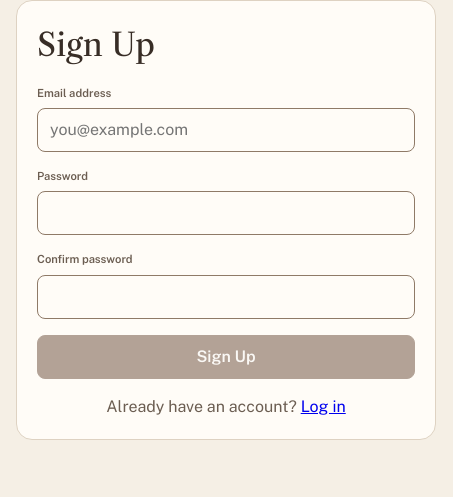
Test: SignupScreen › shows an error message when signup fails (e.g. email already registered)
In the field labelled "Email address": (226, 130) 37,108 -> 415,152, type "buyer@example.com"
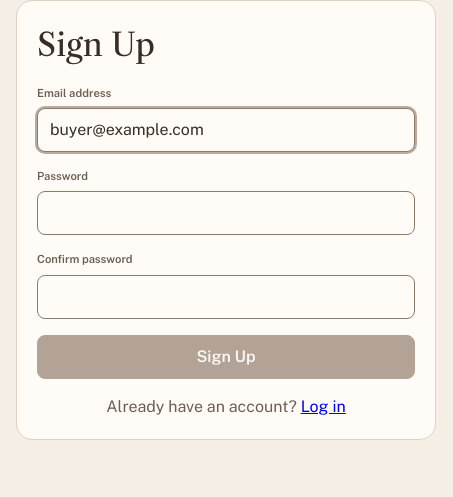
In the password field labelled "Password": (226, 213) 37,191 -> 415,235, type "correct-horse-battery"
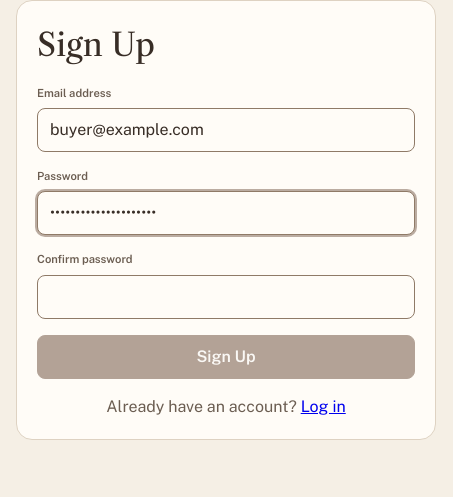
In the password field labelled "Confirm password": (226, 297) 37,275 -> 415,319, type "correct-horse-battery"
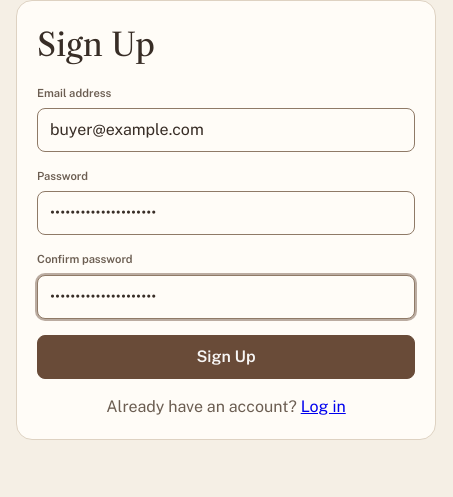
Click the button "Sign Up": (226, 357) 37,335 -> 415,379
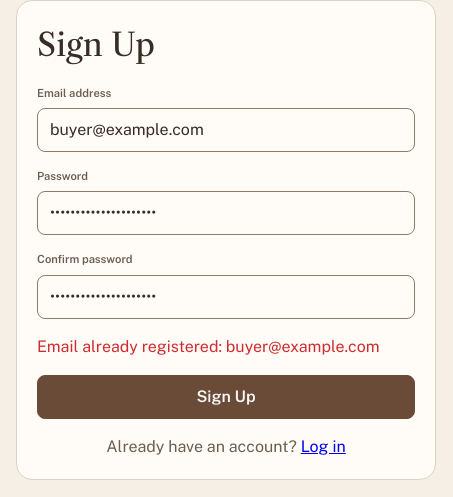
Check: the text "Email already registered: buyer@example.com" is shown, box 37,335 -> 415,359
